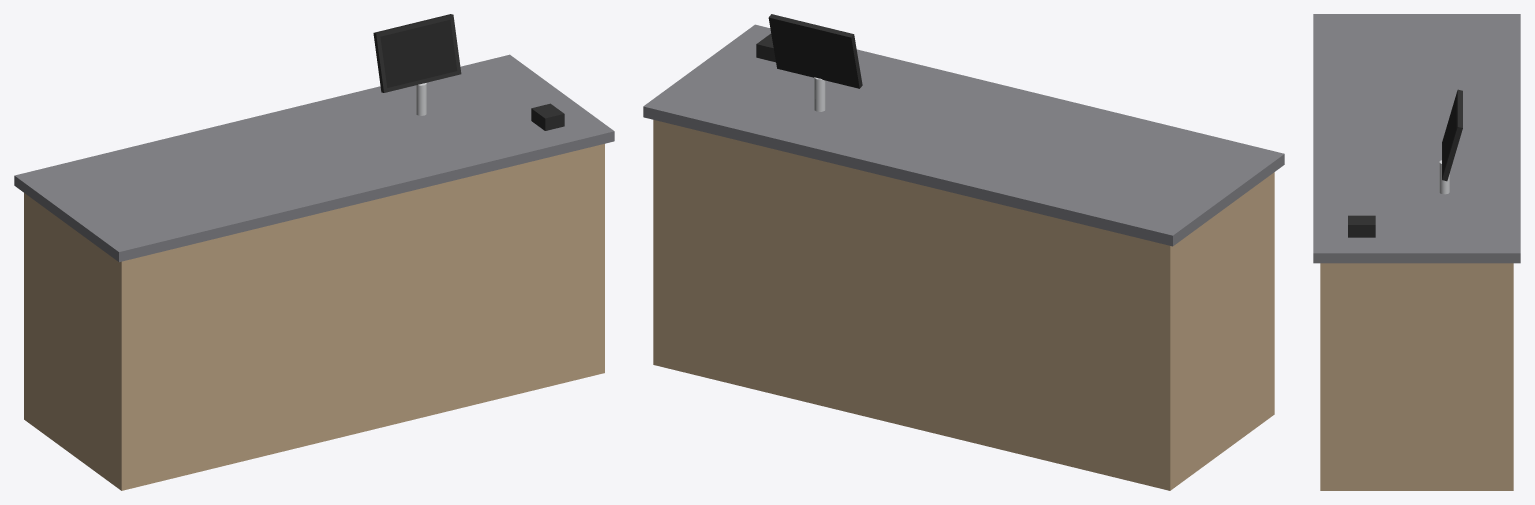
File: gen_checkout.glb
The picture shows the model from 3 angles, left to right: view 1: azimuth 30°, elevation 25°; view 2: azimuth 150°, elevation 25°; view 3: azimuth 270°, elevation 25°; orthographic projection. The views are drawn at different scales.
Visible parts, largest first — view 1: gen_checkout, screen; view 2: gen_checkout; view 3: gen_checkout, screen.
Part boxes in pixels (x1,y1,x2,y2): gen_checkout: (14,14,614,490); screen: (380,20,457,87); gen_checkout: (643,14,1284,490); gen_checkout: (1313,14,1520,490); screen: (1443,96,1456,173).
Size of the model in its own units: 2.05 by 1.3 by 0.75.
